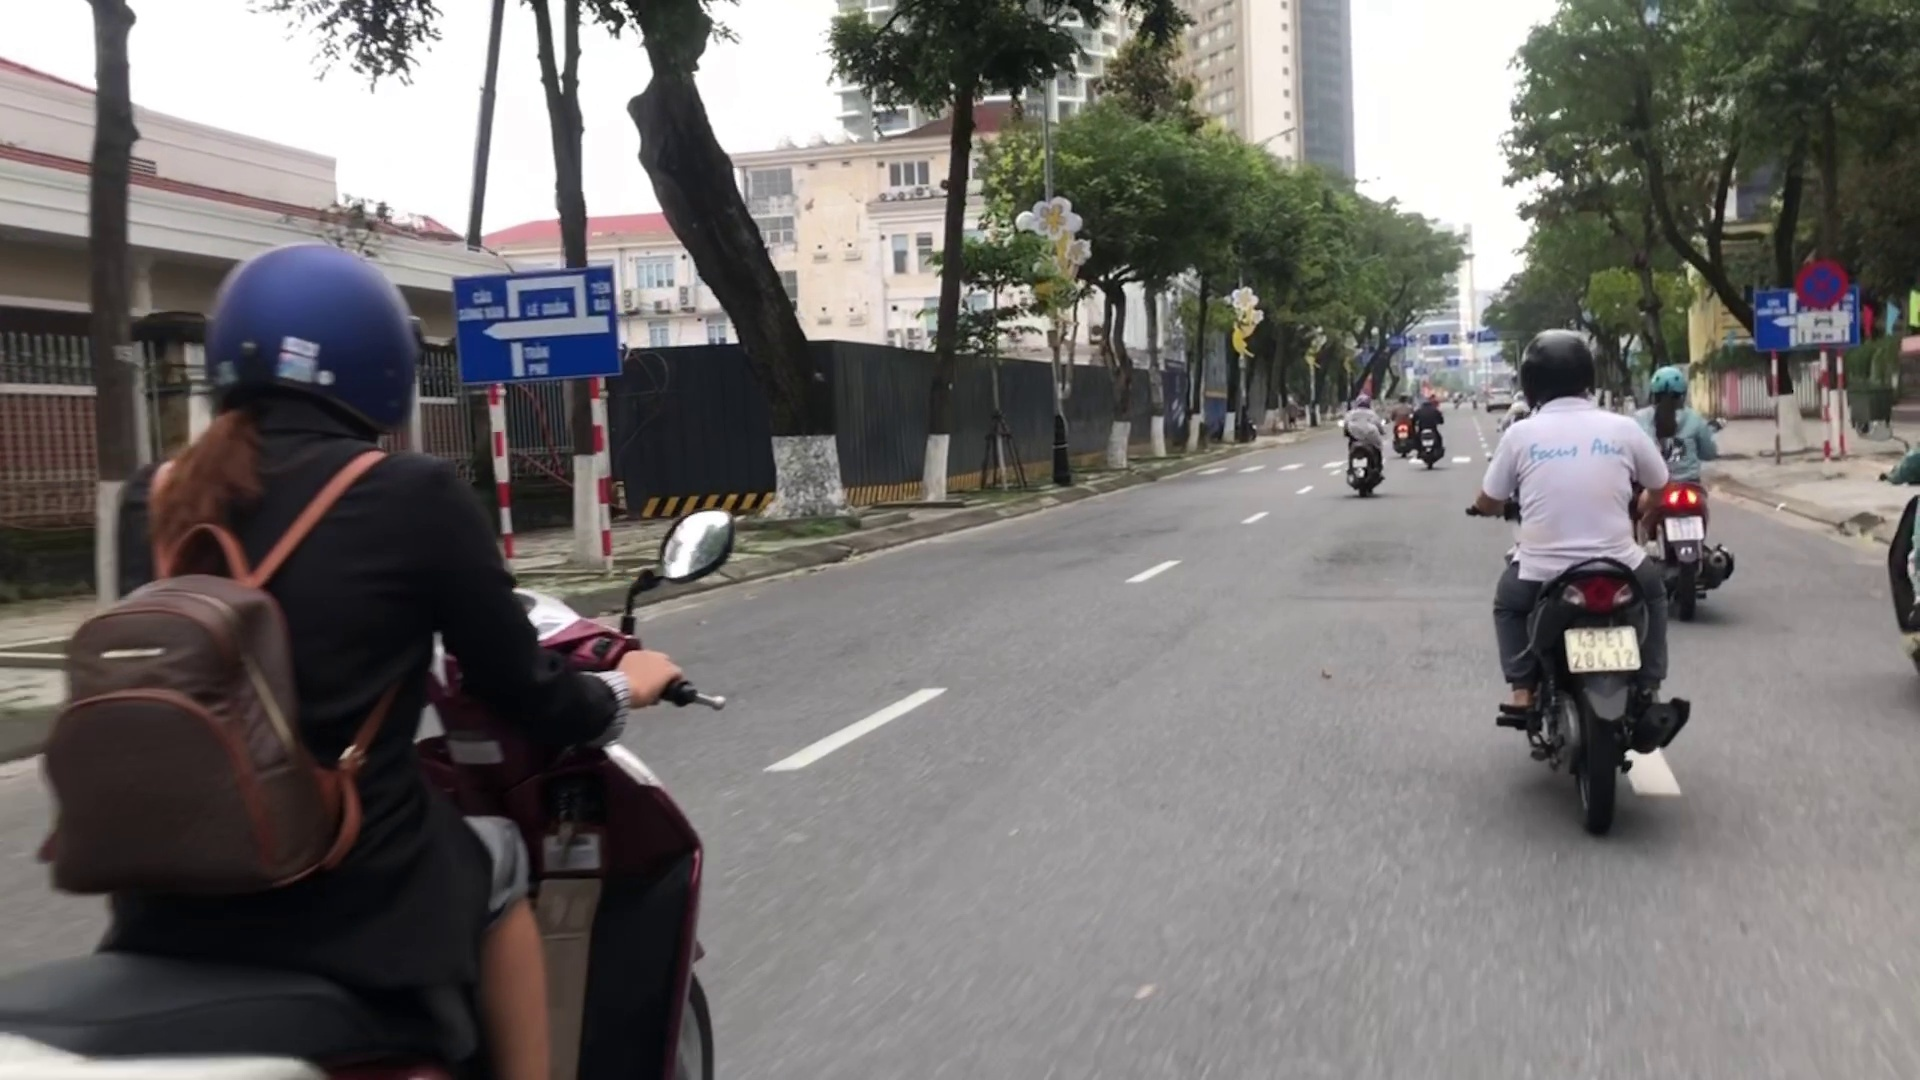Bien khac: (448, 266, 621, 381), (1789, 251, 1849, 309)
